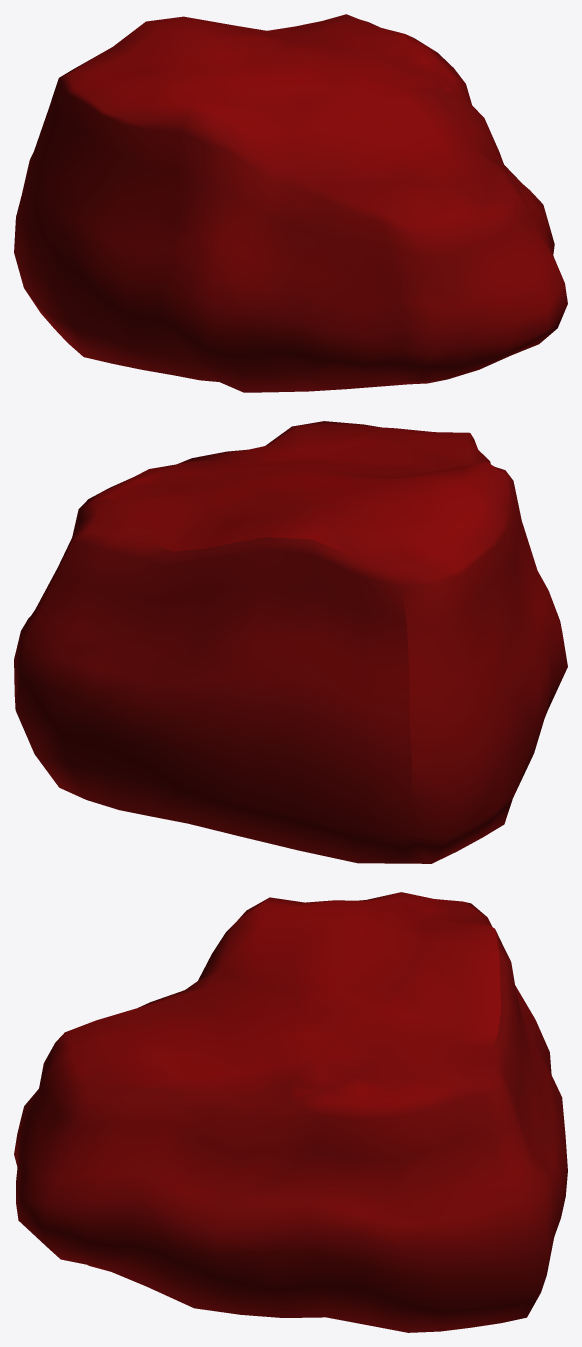
File: geology-rocks-rockmedium_v2.fbx
3 views of the same model, one above another, from view 1: azimuth 30°, elevation 25°; view 2: azimuth 150°, elevation 25°; view 3: azimuth 270°, elevation 25° (orthographic). The views are drawn at different scales.
Parts seen in each view (by area): view 1: RockMedium_v2; view 2: RockMedium_v2; view 3: RockMedium_v2.
Boxes of the visible parts, x1,y1,x2,y2 form: RockMedium_v2: (14,14,567,392); RockMedium_v2: (14,421,567,863); RockMedium_v2: (14,892,567,1332).
Bounding box in the file's own units: 3.45 × 2.27 × 3.78.
